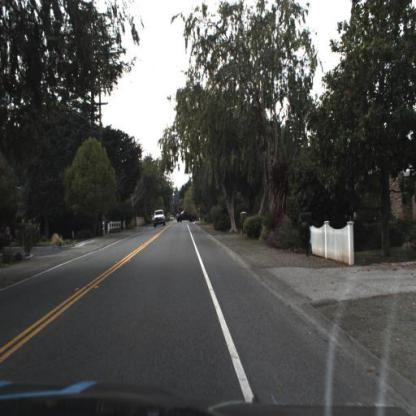car: (171, 205, 200, 225), (151, 207, 169, 228)
